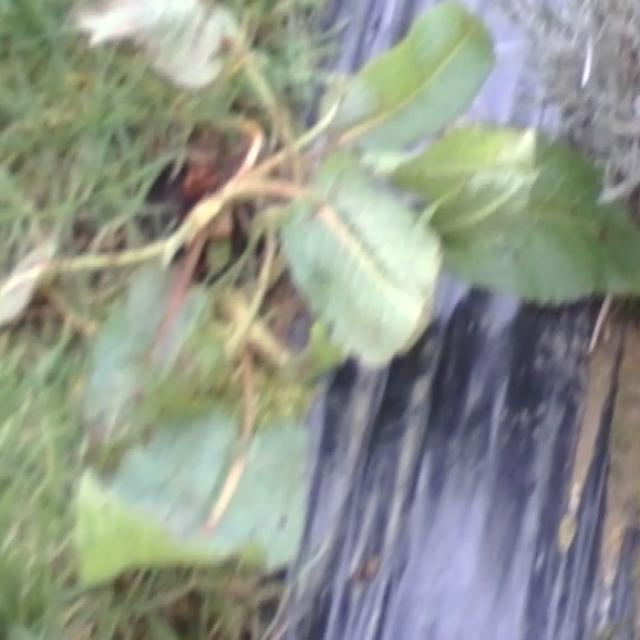organic waste: (15, 0, 640, 633)
